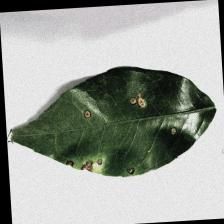canker: (56, 94, 174, 181)
